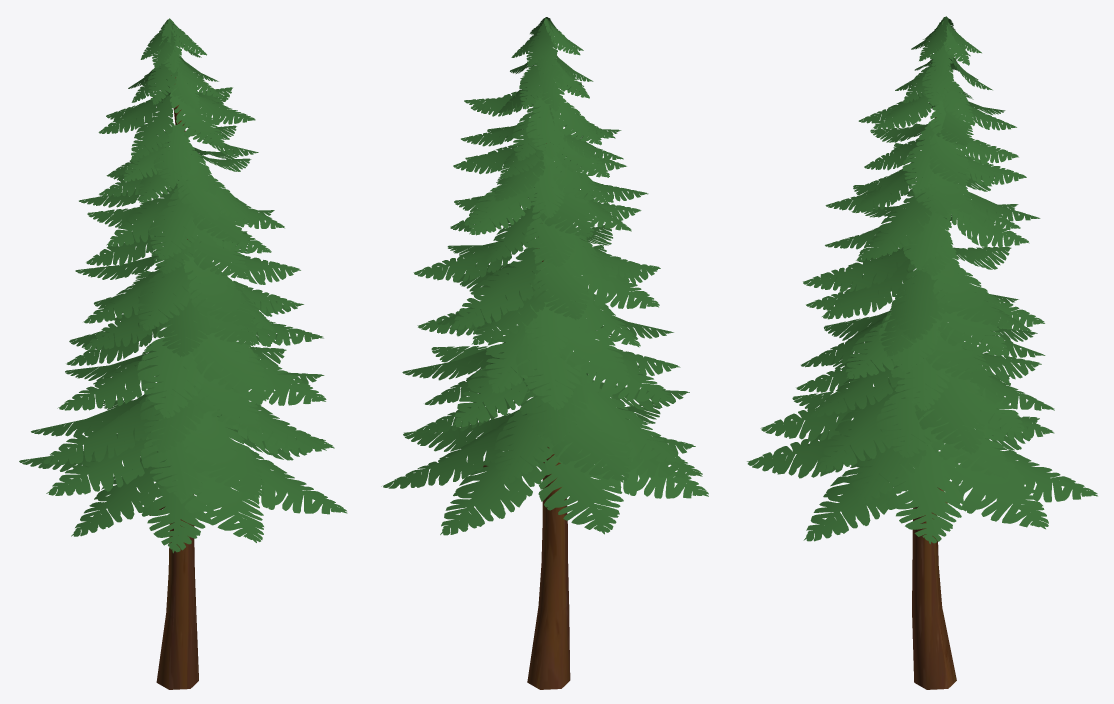
The model's file is STPine2.glb.
3 views of the same model, side by side, from view 1: azimuth 30°, elevation 25°; view 2: azimuth 150°, elevation 25°; view 3: azimuth 270°, elevation 25° (orthographic).
Visible parts, largest first — view 1: STPine2_Leaves, STPine2_Trunk; view 2: STPine2_Leaves, STPine2_Trunk; view 3: STPine2_Leaves, STPine2_Trunk.
Part boxes in pixels (x1,y1,x2,y2): STPine2_Leaves: (19,18,347,553); STPine2_Trunk: (149,75,198,689); STPine2_Leaves: (381,17,708,535); STPine2_Trunk: (483,143,578,689); STPine2_Leaves: (747,16,1097,543); STPine2_Trunk: (912,117,956,689).
Bounding box in the file's own units: 5.82 × 12.72 × 6.15.
2 materials, 2 textured.
